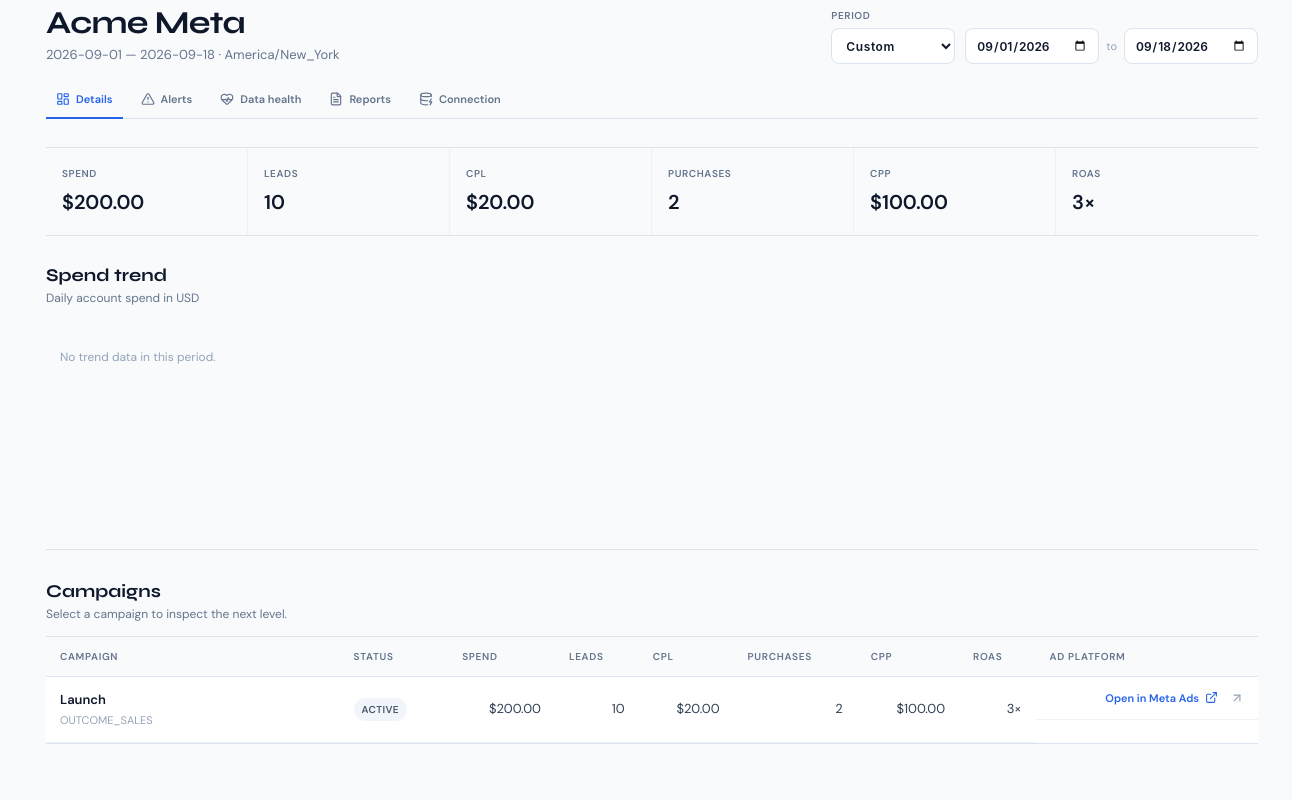
Test case: performance drilldown › keeps a custom account period in the URL while opening a campaign
(page scrolled)
Expected: the date field named "Start date" holds "2026-09-01", [965,28,1099,64]
Click the text "Launch".
click(83, 699)  # box [60,691,106,708]
(page scrolled)
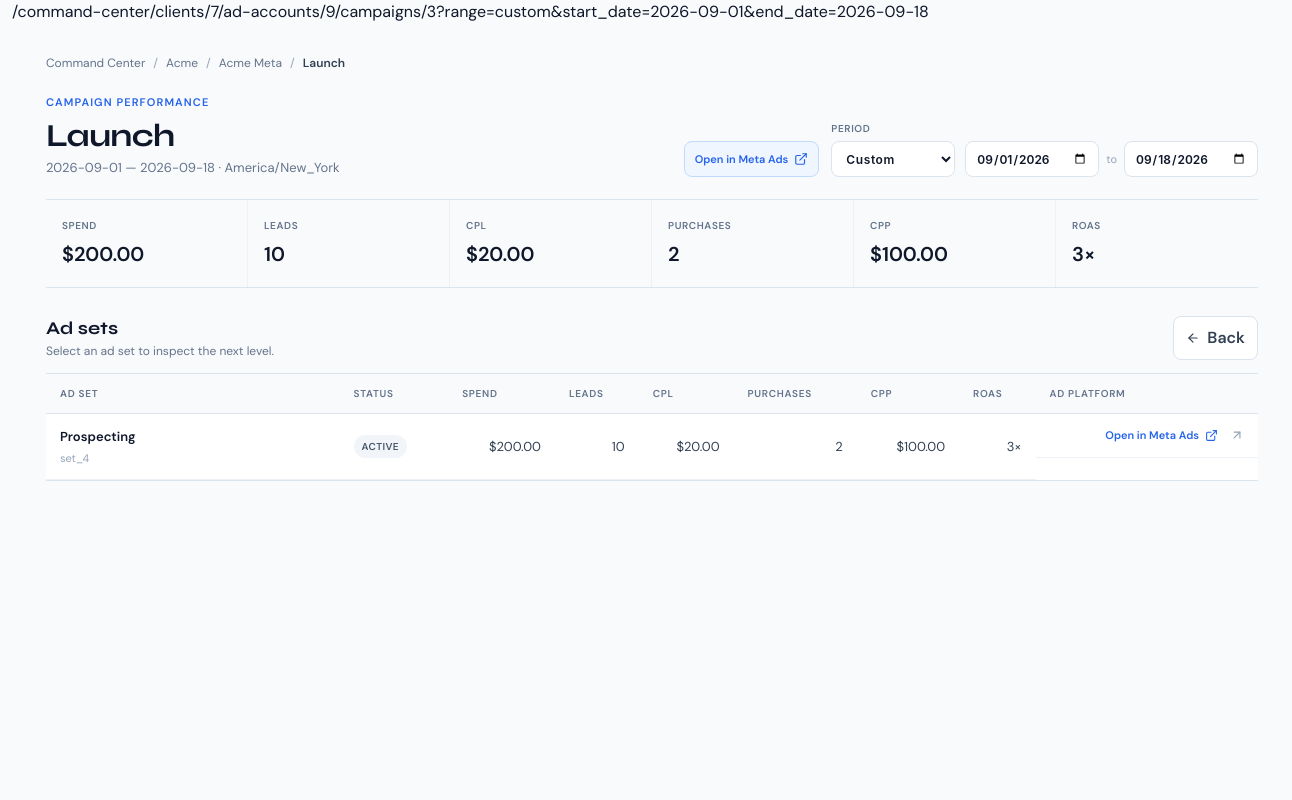
Now the heading "Ad sets" is shown, box [46,317,118,339]
Now the text with test id "location" shows "/command-center/clients/7/ad-accounts/9/campaigns/3?range=custom&start_date=2026-09-01&end_date=2026-09-18", box [12,1,929,22]
